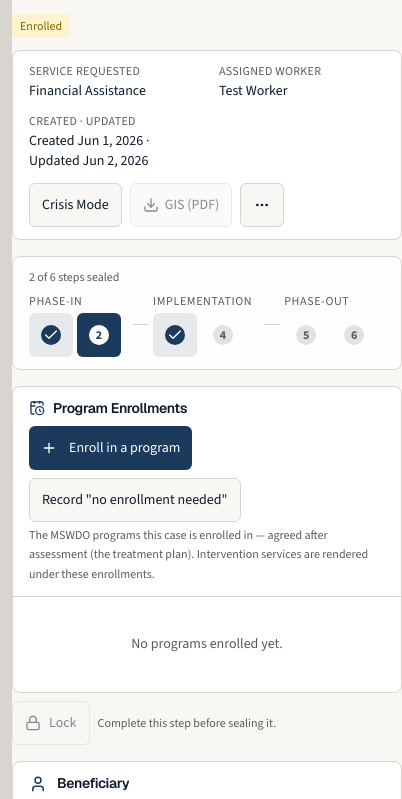
Test: CaseViewPage — a sealed step › offers the seal bar submit on a done, unsealed step 0
Click the button named "Assess & Interview" at (51, 334), box [29,312,73,356]
(page scrolled)
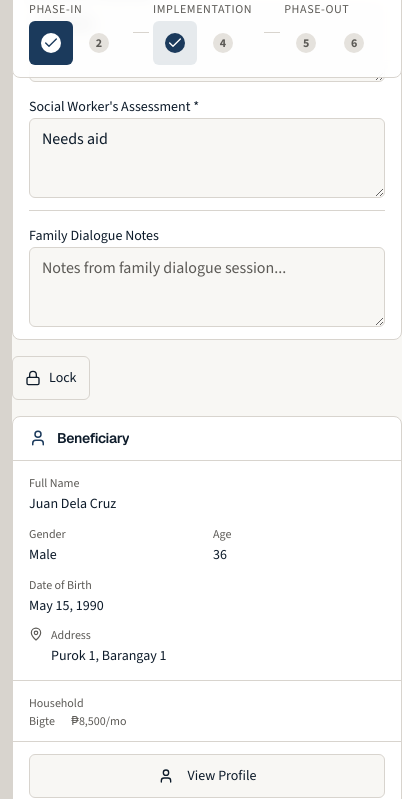
Result: the button "Lock" is enabled at [12,356,90,400]
